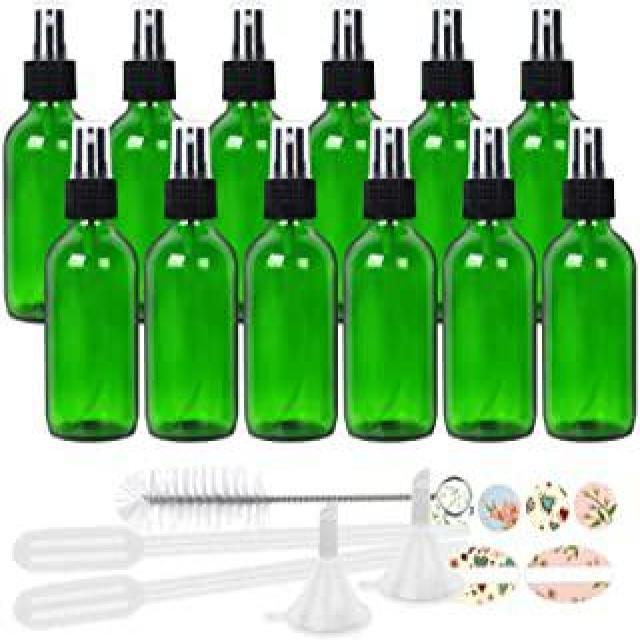glass: (443, 117, 541, 444)
